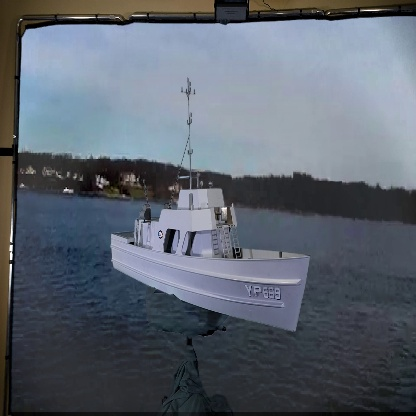YP689: (111, 79, 311, 333)
